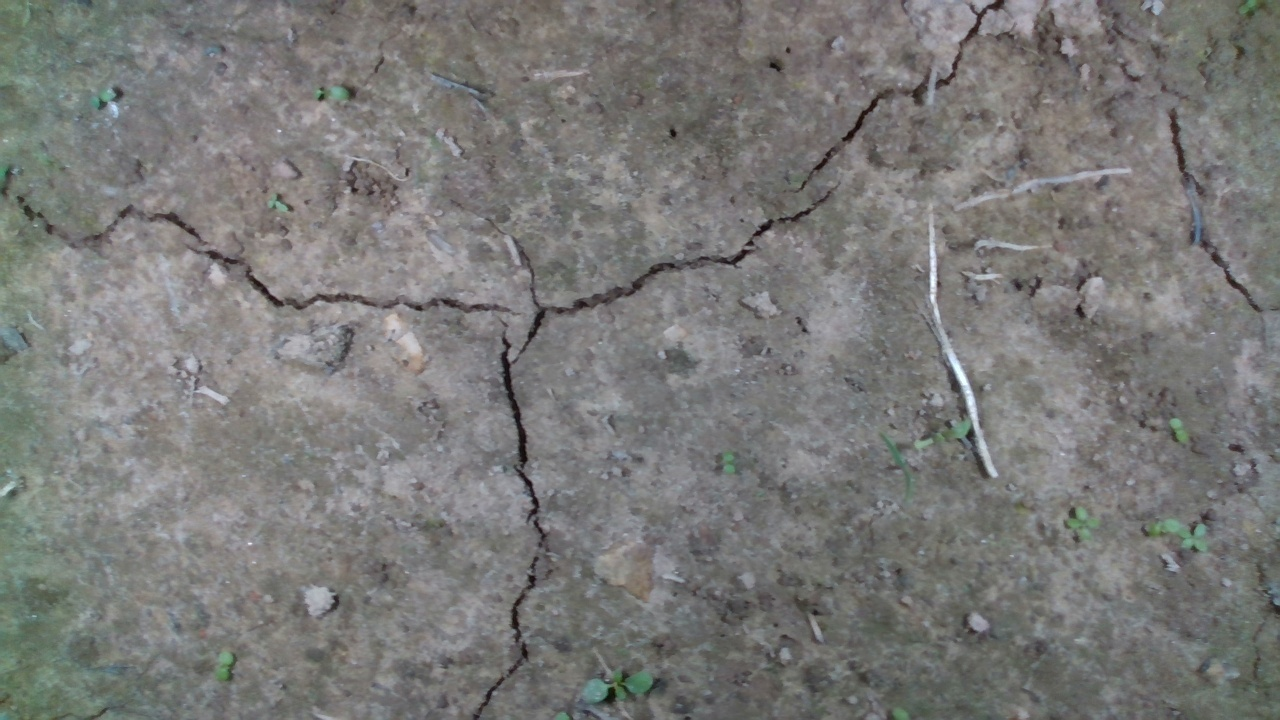weed: (579, 660, 654, 706), (78, 83, 134, 110), (1064, 504, 1100, 542), (712, 450, 739, 478), (215, 650, 238, 681)
